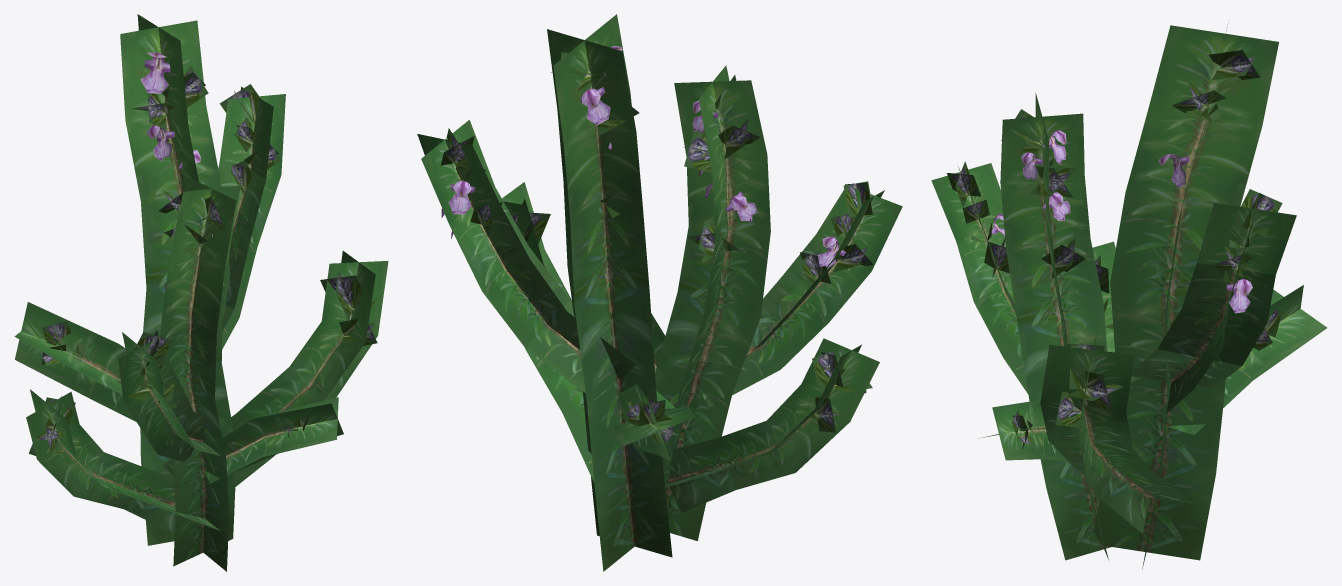
File: Rosemary.FBX
3 renders of one model, left to right at view 1: azimuth 30°, elevation 25°; view 2: azimuth 150°, elevation 25°; view 3: azimuth 270°, elevation 25°, orthographic. The views are drawn at different scales.
Parts seen in each view (by area): view 1: Rosemary, Rosemary001; view 2: Rosemary, Rosemary001; view 3: Rosemary, Rosemary001.
Part boxes in pixels (box(x1,y1,x2,y2)): Rosemary: box(14, 14, 388, 552); Rosemary001: box(26, 176, 343, 571); Rosemary: box(417, 14, 696, 571); Rosemary001: box(651, 65, 902, 540); Rosemary: box(1040, 23, 1327, 568); Rosemary001: box(931, 93, 1115, 560).
Bounding box in the file's own units: 67.62 × 87.3 × 58.46.
